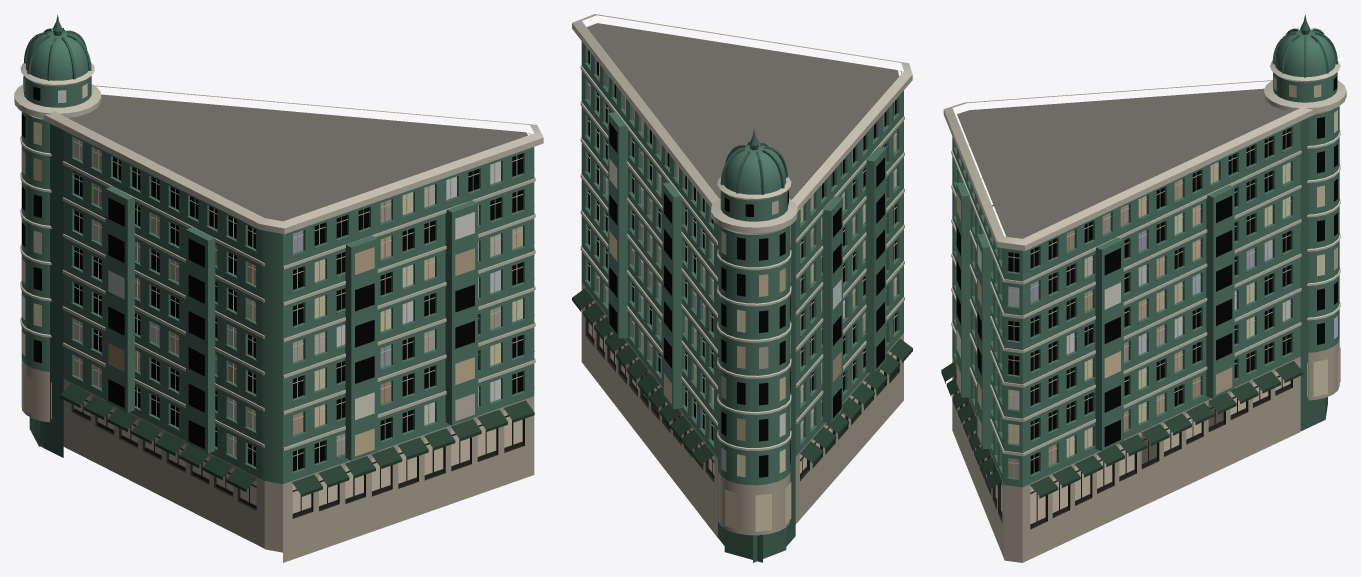
Rendered from columbusTower_lod0.glb.
The picture shows the model from 3 angles, left to right: view 1: azimuth 30°, elevation 25°; view 2: azimuth 150°, elevation 25°; view 3: azimuth 270°, elevation 25°; orthographic projection. The views are drawn at different scales.
Parts seen in each view (by area): view 1: L0_paint, L0_stucco, L0_win, L0_roof, L0_metal, L0_fabric, L0_shop, L0_gold; view 2: L0_paint, L0_roof, L0_stucco, L0_win, L0_fabric, L0_metal, L0_shop, L0_gold; view 3: L0_paint, L0_stucco, L0_roof, L0_win, L0_metal, L0_fabric, L0_shop, L0_gold.
Boxes of the visible parts, box(x1,y1,x2,y2) form: L0_paint: box(21, 14, 535, 483); L0_stucco: box(14, 62, 543, 562); L0_win: box(22, 76, 522, 471); L0_roof: box(68, 94, 527, 221); L0_metal: box(71, 140, 524, 518); L0_fabric: box(60, 383, 534, 496); L0_shop: box(24, 374, 522, 513); L0_gold: box(24, 28, 91, 80); L0_paint: box(580, 23, 904, 485); L0_roof: box(587, 23, 899, 199); L0_stucco: box(572, 14, 912, 562); L0_win: box(588, 50, 896, 477); L0_fabric: box(572, 288, 912, 466); L0_metal: box(585, 52, 899, 482); L0_shop: box(588, 301, 896, 531); L0_gold: box(720, 142, 787, 194); L0_paint: box(951, 14, 1339, 487); L0_stucco: box(943, 59, 1346, 562); L0_roof: box(957, 88, 1291, 238); L0_win: box(956, 76, 1337, 478); L0_metal: box(954, 130, 1292, 529); L0_fabric: box(941, 361, 1303, 498); L0_shop: box(957, 347, 1340, 524); L0_gold: box(1272, 28, 1337, 77).
Size of the model in its own units: 39.91 by 43.7 by 40.13.
